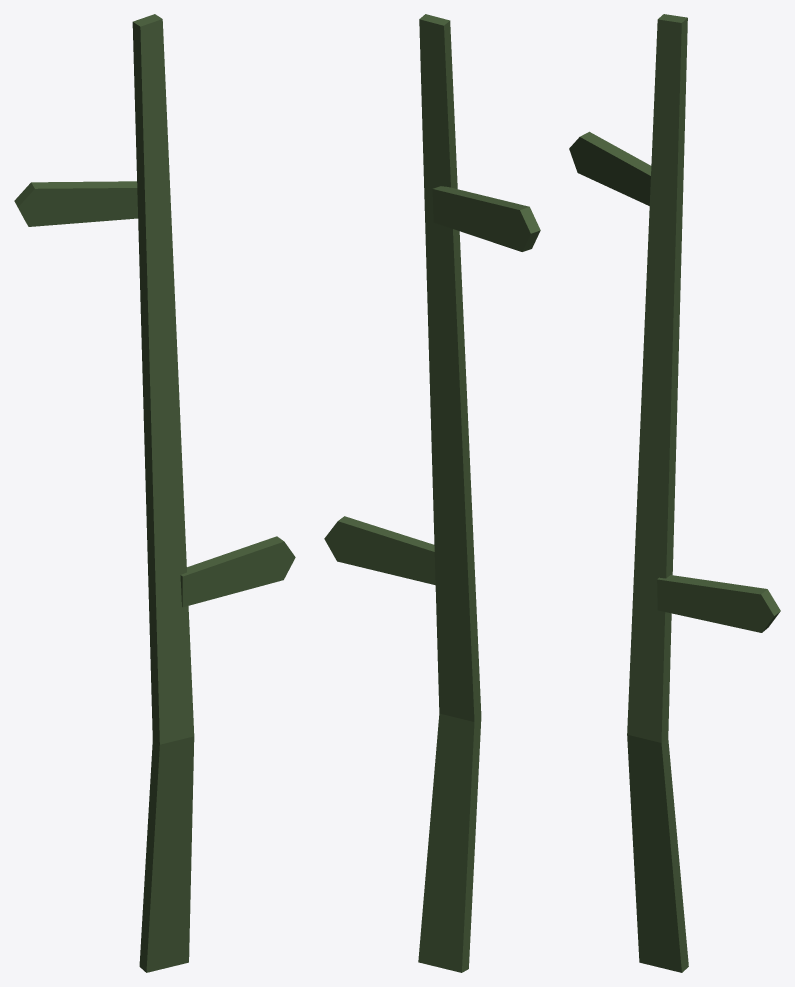
File: flowers_harvested.gltf
The picture shows the model from 3 angles, left to right: view 1: azimuth 30°, elevation 25°; view 2: azimuth 150°, elevation 25°; view 3: azimuth 330°, elevation 25°; orthographic projection. The views are drawn at different scales.
Visible parts, largest first — view 1: flowers_harvested; view 2: flowers_harvested; view 3: flowers_harvested.
Boxes of the visible parts, left/top/right/bottom form: flowers_harvested: left=14, top=14, right=295, bottom=972; flowers_harvested: left=324, top=14, right=540, bottom=972; flowers_harvested: left=569, top=14, right=780, bottom=972.
Size of the model in its own units: 0.1928 by 0.715 by 0.0672.
Materials: 1 (1 with a texture image).
